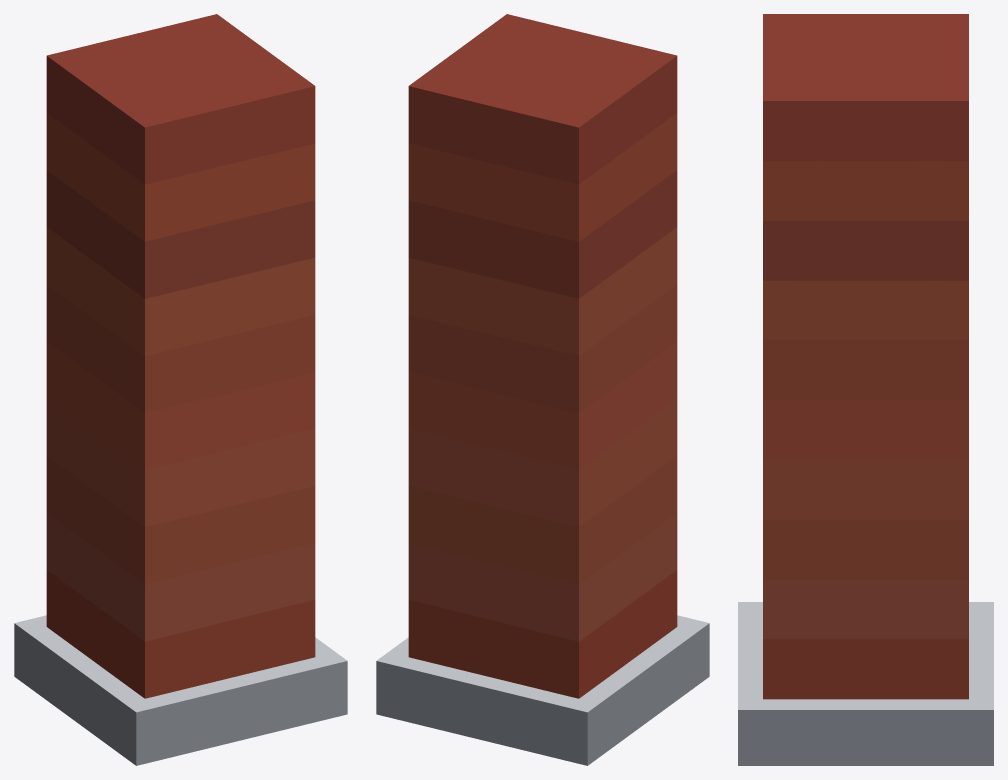
The model's file is ClockTower_Tower.glb.
3 renders of one model, left to right at view 1: azimuth 30°, elevation 25°; view 2: azimuth 150°, elevation 25°; view 3: azimuth 270°, elevation 25°, orthographic. The views are drawn at different scales.
Visible parts, largest first — view 1: ClockTower_Tower; view 2: ClockTower_Tower; view 3: ClockTower_Tower.
Part boxes in pixels (<box>): ClockTower_Tower: <box>14,14,347,765</box>; ClockTower_Tower: <box>376,14,709,765</box>; ClockTower_Tower: <box>738,14,993,765</box>.
Bounding box in the file's own units: 12.4 × 35.02 × 12.4.
